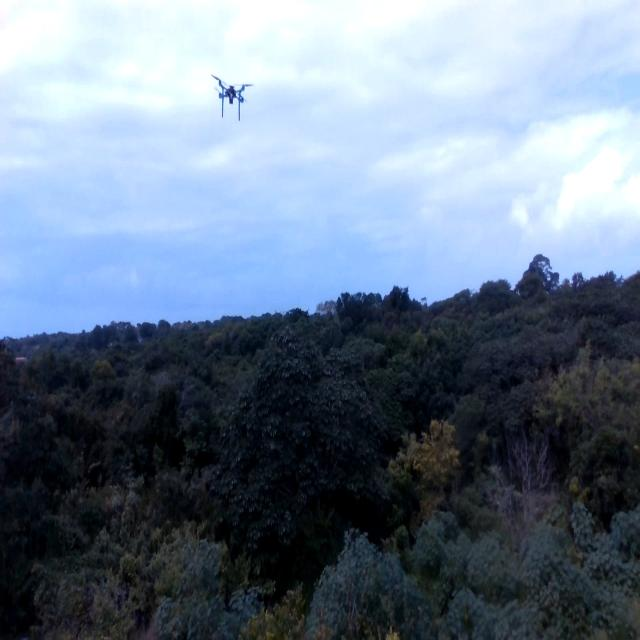-uav-: (204, 58, 258, 131)
